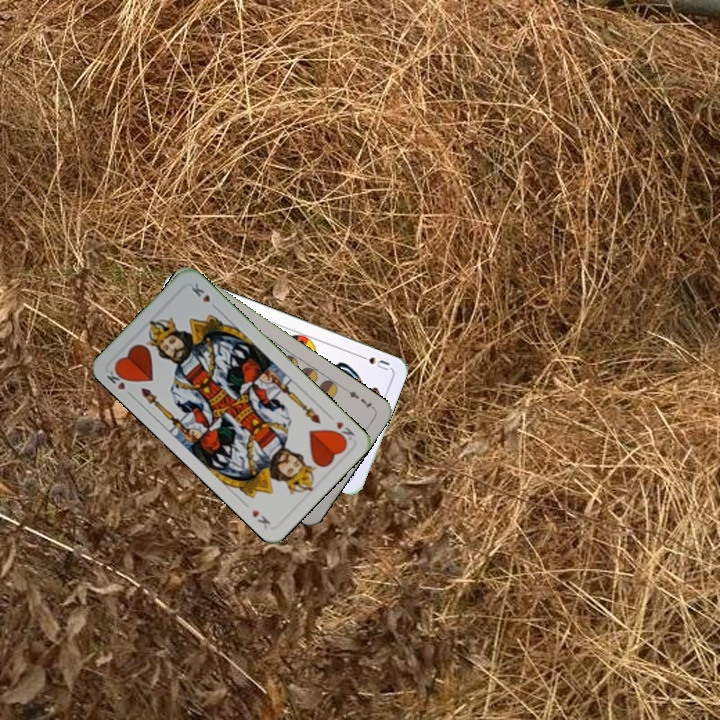E7: (342, 386, 377, 412)
HK: (103, 363, 132, 392), (330, 417, 357, 446)
SU: (354, 350, 392, 373)
